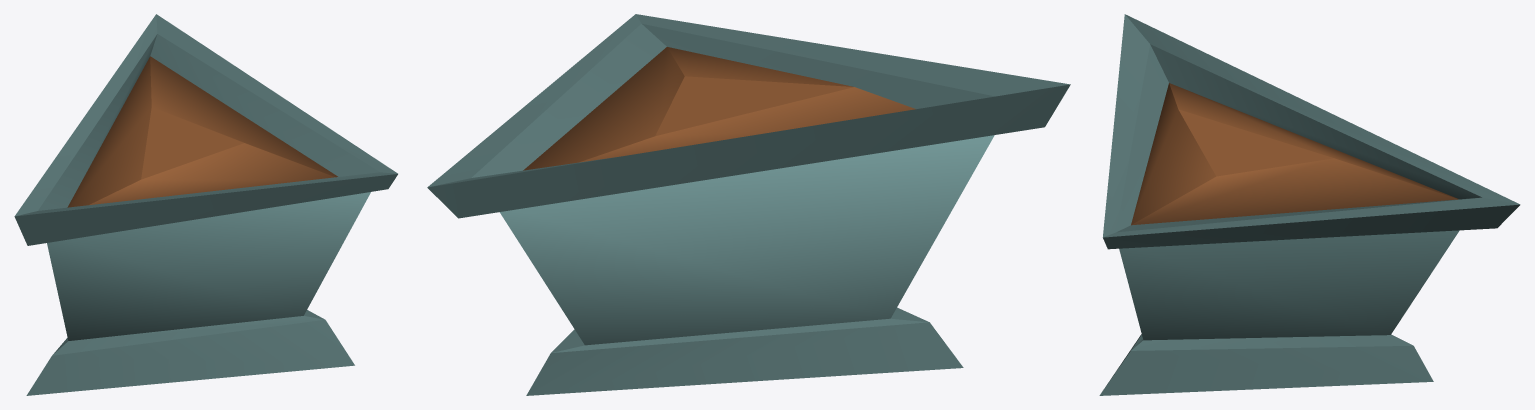
File: c_deco_vase_triangle_ab.fbx
3 views of the same model, side by side, from view 1: azimuth 30°, elevation 25°; view 2: azimuth 150°, elevation 25°; view 3: azimuth 270°, elevation 25° (orthographic). The views are drawn at different scales.
Parts seen in each view (by area): view 1: c_deco_vase_triangle_ab; view 2: c_deco_vase_triangle_ab; view 3: c_deco_vase_triangle_ab.
Part boxes in pixels (bbox=[...]): c_deco_vase_triangle_ab: bbox=[14, 14, 397, 395]; c_deco_vase_triangle_ab: bbox=[427, 14, 1070, 395]; c_deco_vase_triangle_ab: bbox=[1099, 14, 1520, 395].
Bounding box in the file's own units: 0.6491 × 0.3658 × 0.6317.
